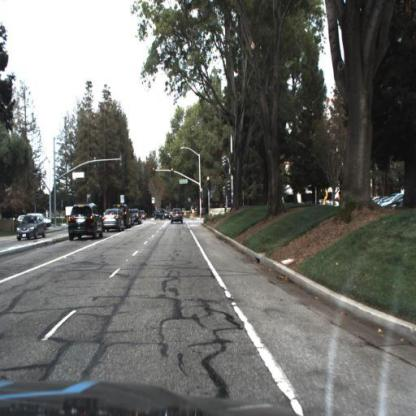car: (66, 200, 107, 242), (16, 214, 47, 243), (101, 207, 125, 229), (167, 204, 185, 228)
trafficLight-Red: (204, 172, 211, 190), (169, 162, 175, 178)
